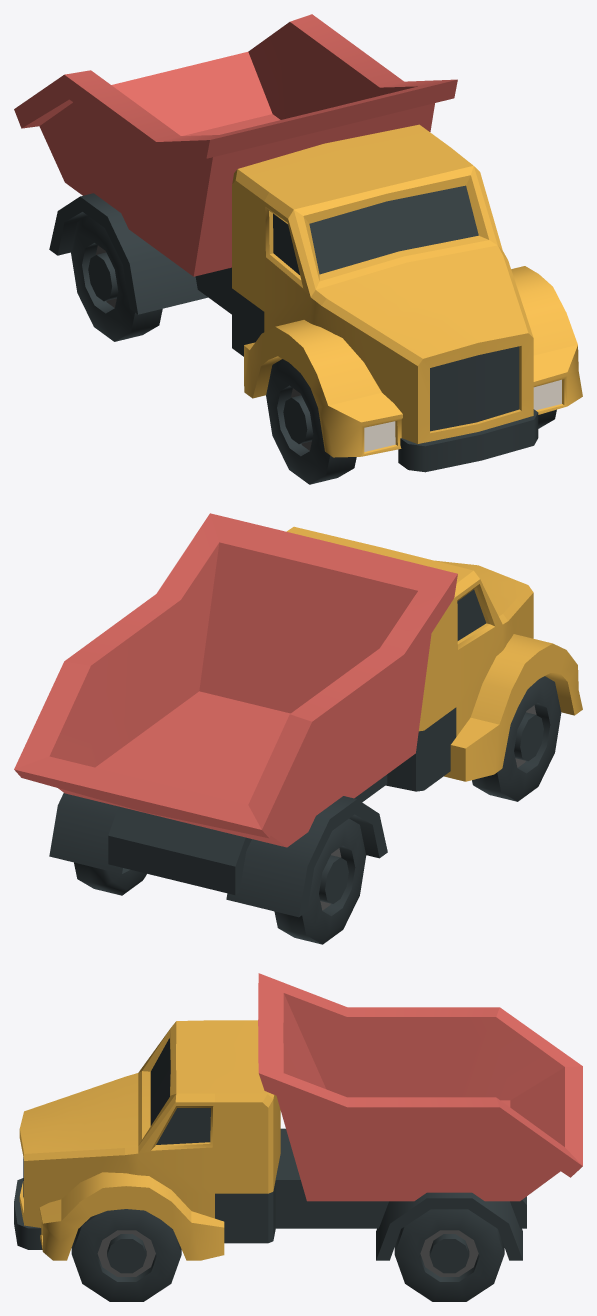
Rendered from DumpTruck_01.fbx.
3 views of the same model, one above another, from view 1: azimuth 30°, elevation 25°; view 2: azimuth 150°, elevation 25°; view 3: azimuth 270°, elevation 25° (orthographic). The views are drawn at different scales.
Visible parts, largest first — view 1: DumpTruck_01; view 2: DumpTruck_01; view 3: DumpTruck_01.
Boxes of the visible parts, left/top/right/bottom form: DumpTruck_01: left=14, top=14, right=582, bottom=484; DumpTruck_01: left=14, top=513, right=582, bottom=944; DumpTruck_01: left=14, top=973, right=582, bottom=1301.
Bounding box in the file's own units: 0.345 × 0.3713 × 0.8228.
